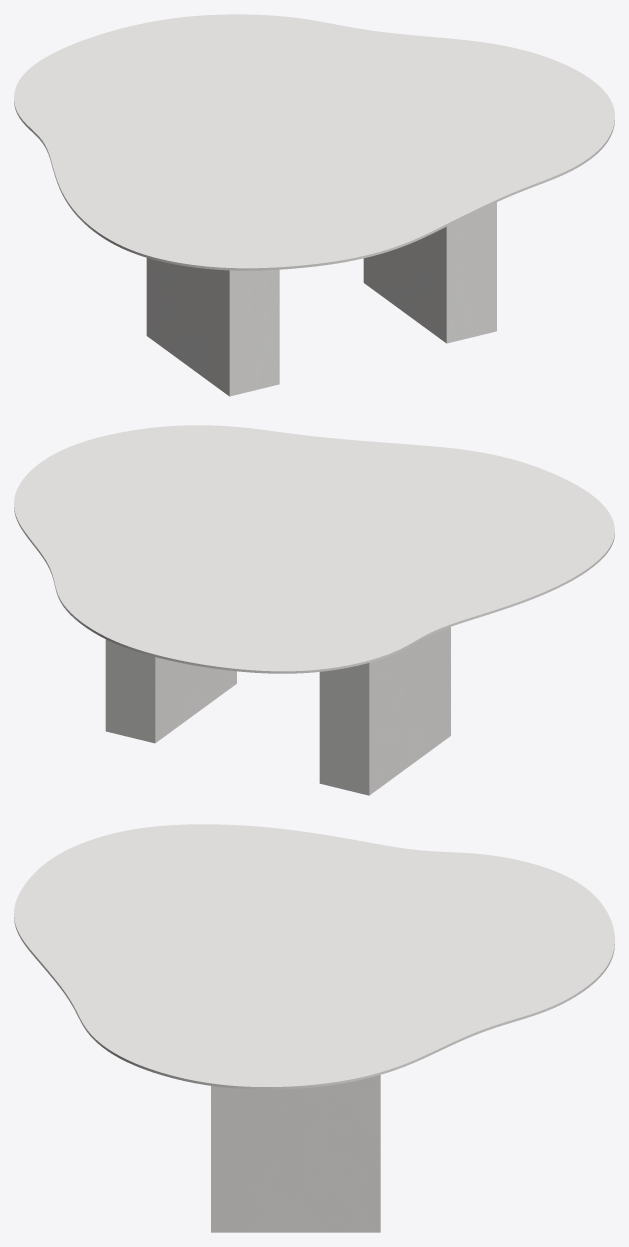
Rendered from purewhite_topone_facet_ridge.glb.
3 renders of one model, top to bottom at view 1: azimuth 30°, elevation 25°; view 2: azimuth 150°, elevation 25°; view 3: azimuth 270°, elevation 25°, orthographic. The views are drawn at different scales.
Visible parts, largest first — view 1: facet_topone, ridge; view 2: facet_topone, ridge; view 3: facet_topone, ridge.
Boxes of the visible parts, left/top/right/bottom form: facet_topone: left=14, top=14, right=614, bottom=270; ridge: left=146, top=202, right=496, bottom=396; facet_topone: left=14, top=425, right=614, bottom=673; ridge: left=105, top=627, right=450, bottom=795; facet_topone: left=14, top=824, right=614, bottom=1089; ridge: left=211, top=1075, right=380, bottom=1232.
Size of the model in its own units: 6.83 by 2.5 by 6.6.
1 material, 1 textured.
